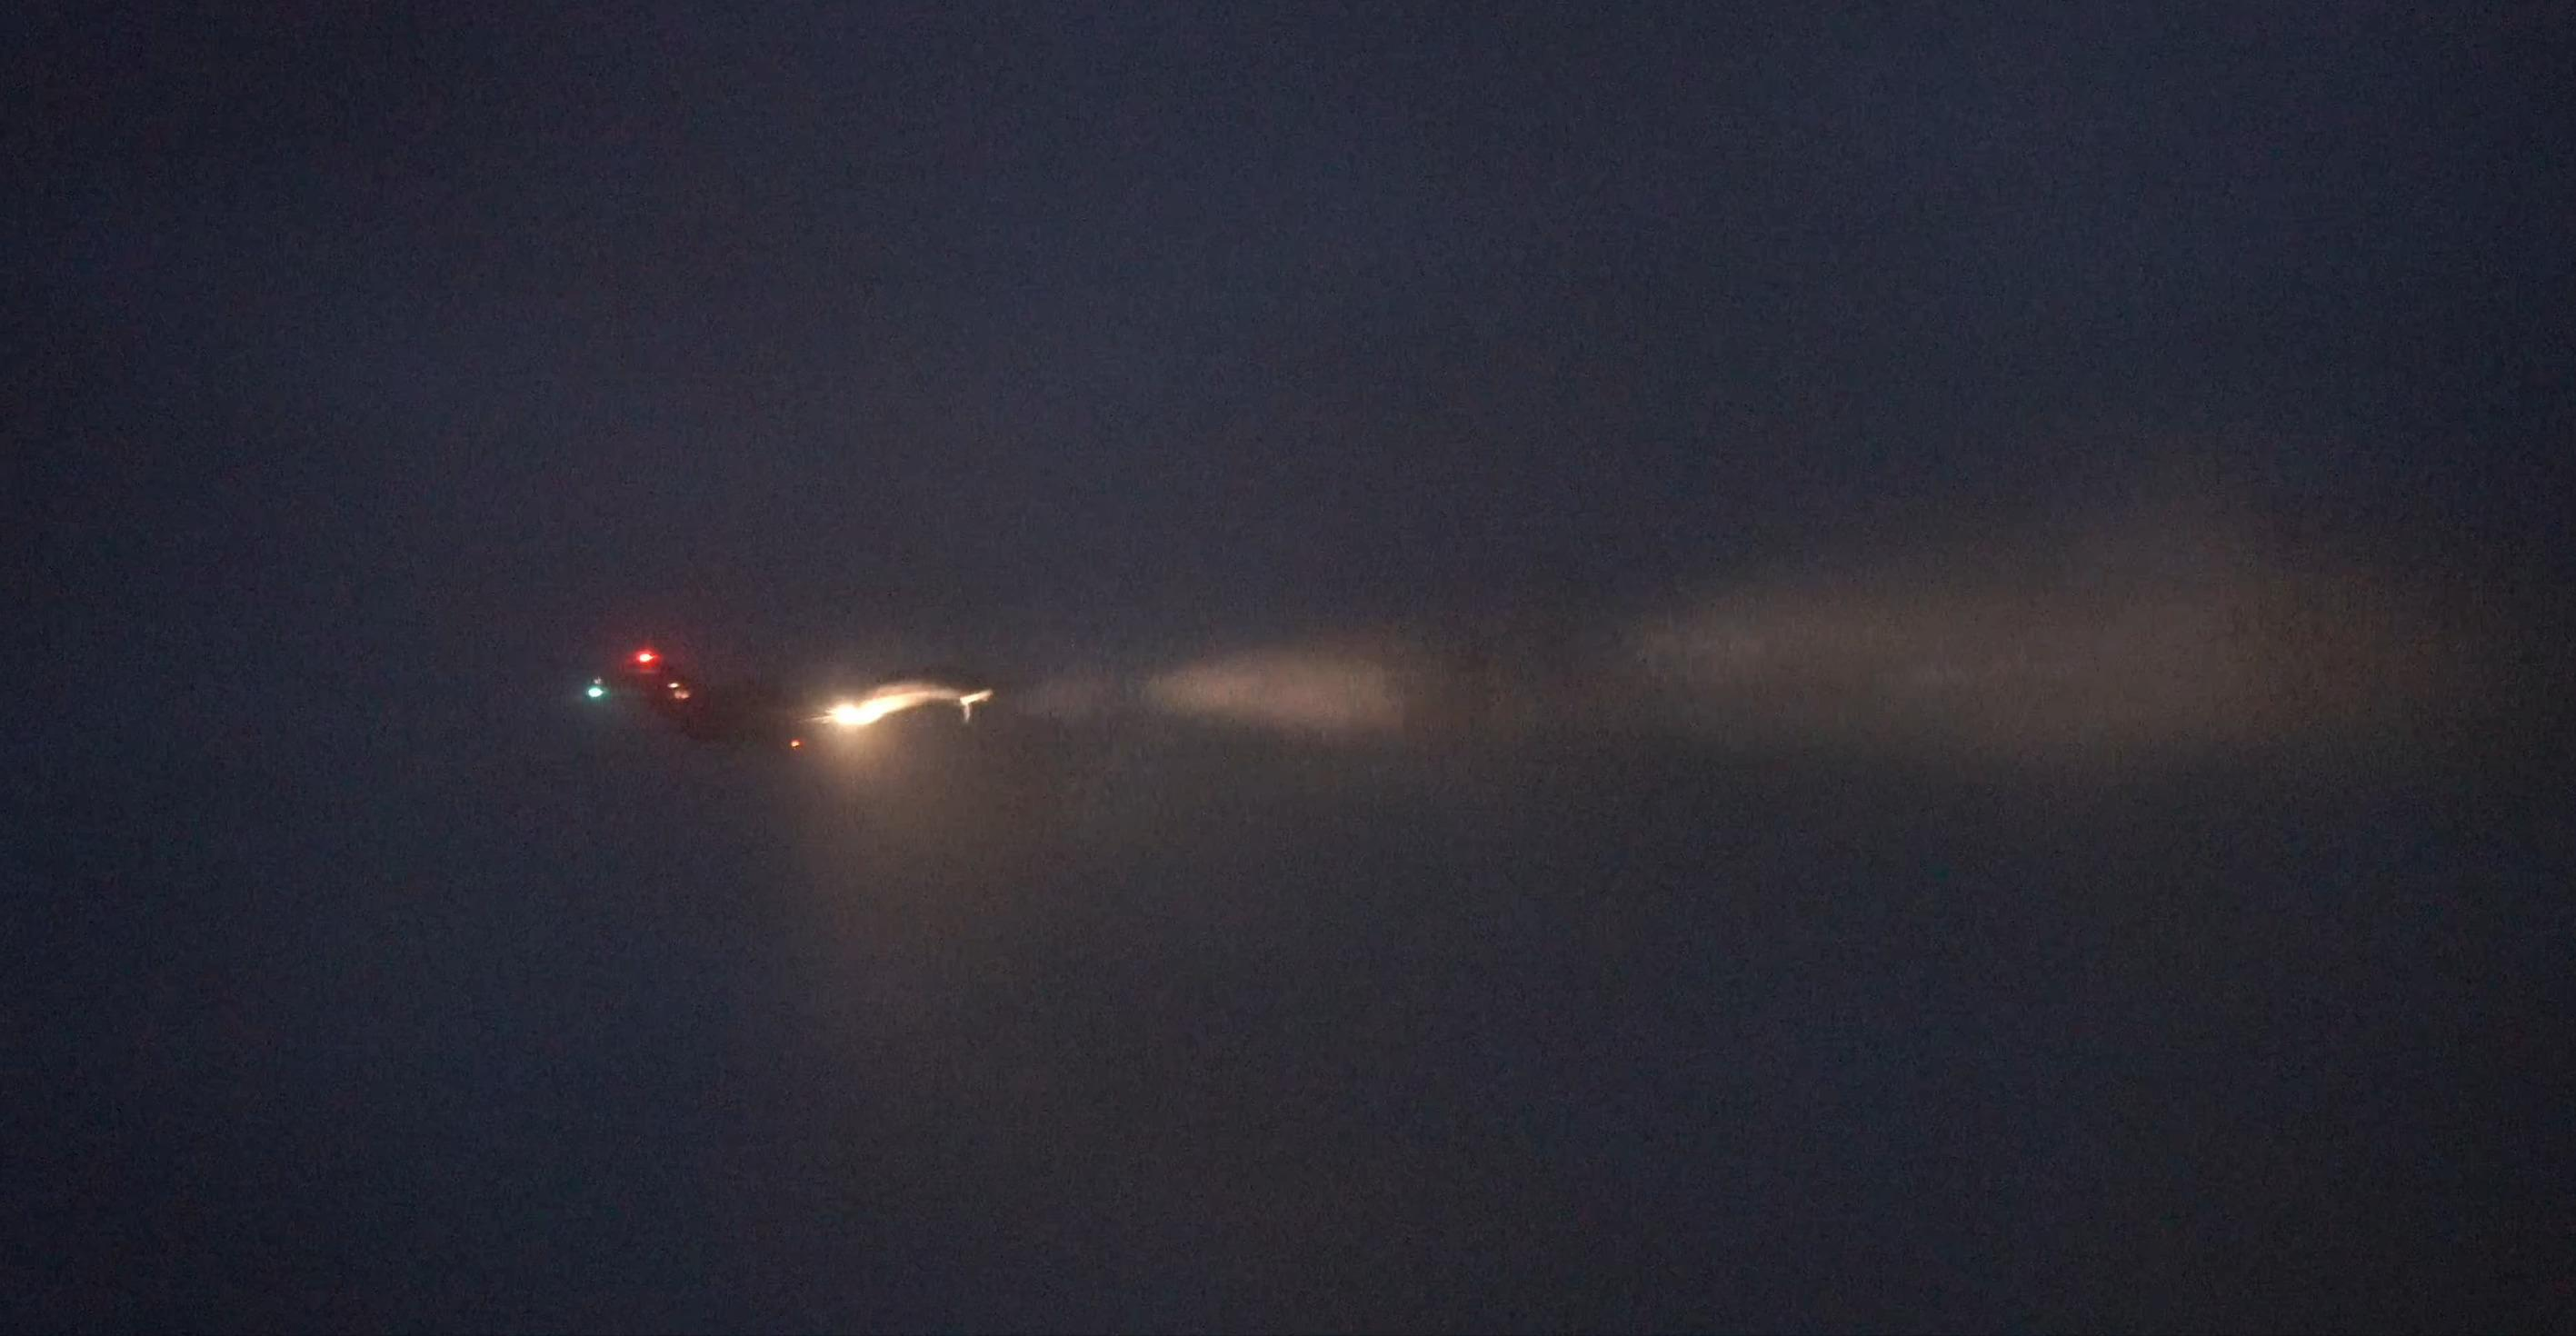Plane: (550, 605, 1029, 775)
